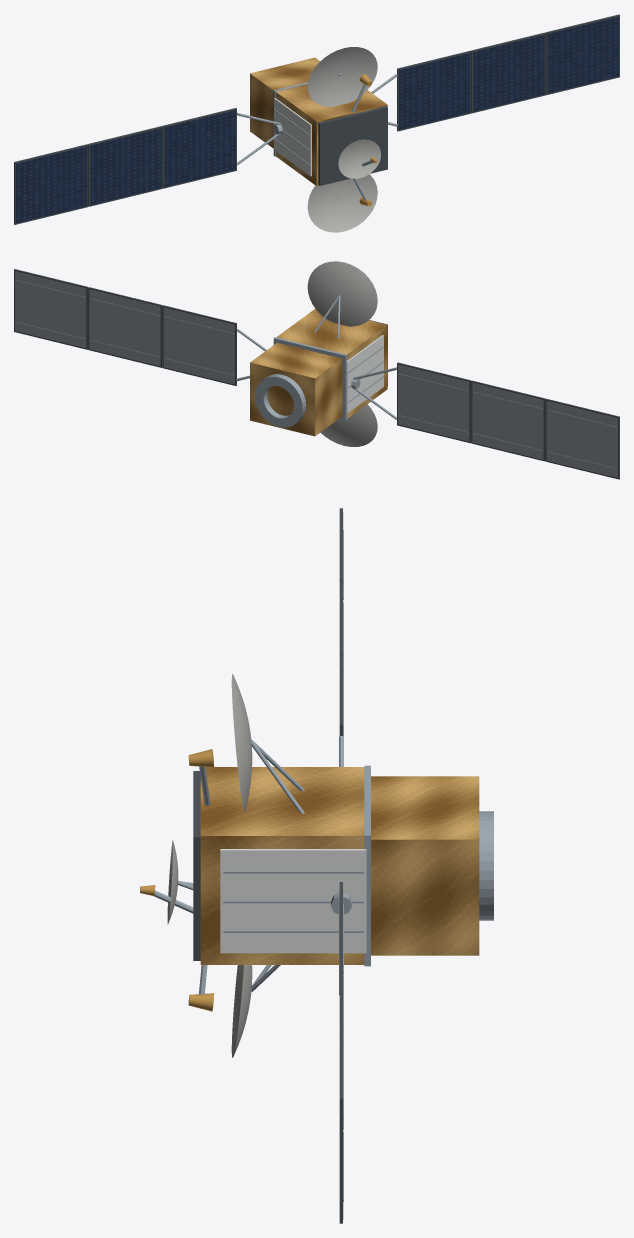
The model's file is ref-i3k-28911.glb.
The picture shows the model from 3 angles, top to bottom: view 1: azimuth 30°, elevation 25°; view 2: azimuth 150°, elevation 25°; view 3: azimuth 270°, elevation 25°; orthographic projection. The views are drawn at different scales.
Parts seen in each view (by area): view 1: Solar cell panel (×6), Communications reflector (×2), Solar panel frame (×6), Earth-facing deck, Service module, Payload module, Radiator face, Deck-mounted reflector; view 2: Rear array substrate (×6), Service module, Communications reflector (×2), Solar panel frame (×6), Payload module, Radiator face, Launch adapter ring, Module interface; view 3: Service module, Payload module, Radiator face, Communications reflector (×2), Launch adapter ring, Earth-facing deck, Module interface.
Part boxes in pixels (box(x1,y1,x2,y2)): Solar cell panel (×6): box(16, 16, 618, 223); Communications reflector (×2): box(307, 47, 377, 232); Solar panel frame (×6): box(14, 14, 619, 224); Earth-facing deck: box(318, 106, 387, 185); Service module: box(250, 57, 319, 148); Payload module: box(276, 84, 387, 186); Radiator face: box(274, 98, 311, 176); Deck-mounted reflector: box(338, 139, 380, 178); Rear array substrate (×6): box(15, 271, 617, 477); Service module: box(250, 343, 342, 436); Communications reflector (×2): box(307, 261, 377, 446); Solar panel frame (×6): box(14, 269, 619, 479); Payload module: box(276, 309, 387, 418); Radiator face: box(346, 335, 383, 413); Launch adapter ring: box(255, 374, 306, 427); Module interface: box(273, 337, 347, 420); Service module: box(371, 776, 479, 955); Payload module: box(200, 767, 364, 964); Radiator face: box(220, 849, 366, 953); Communications reflector (×2): box(231, 674, 252, 1057); Launch adapter ring: box(479, 811, 493, 920); Earth-facing deck: box(193, 771, 200, 960); Module interface: box(364, 765, 370, 966).
Size of the model in its own units: 15.38 by 4.46 by 3.9.
Materials: 8 (2 with a texture image).
